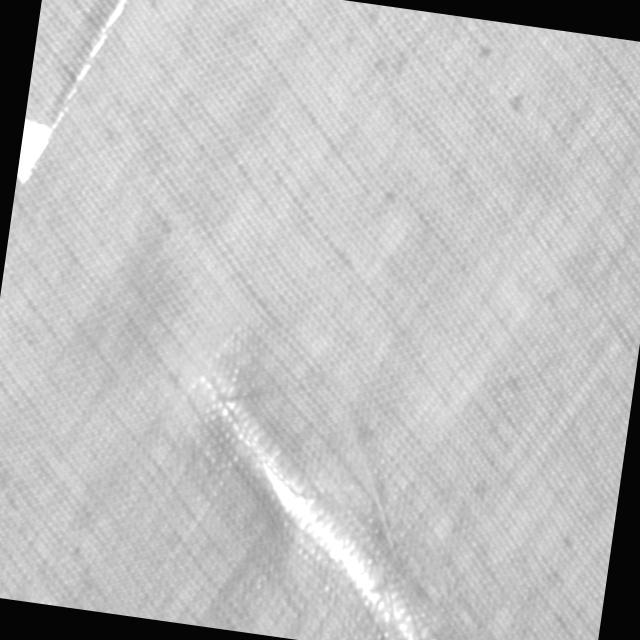hole: (160, 351, 475, 640), (46, 0, 142, 140), (15, 111, 55, 194)
